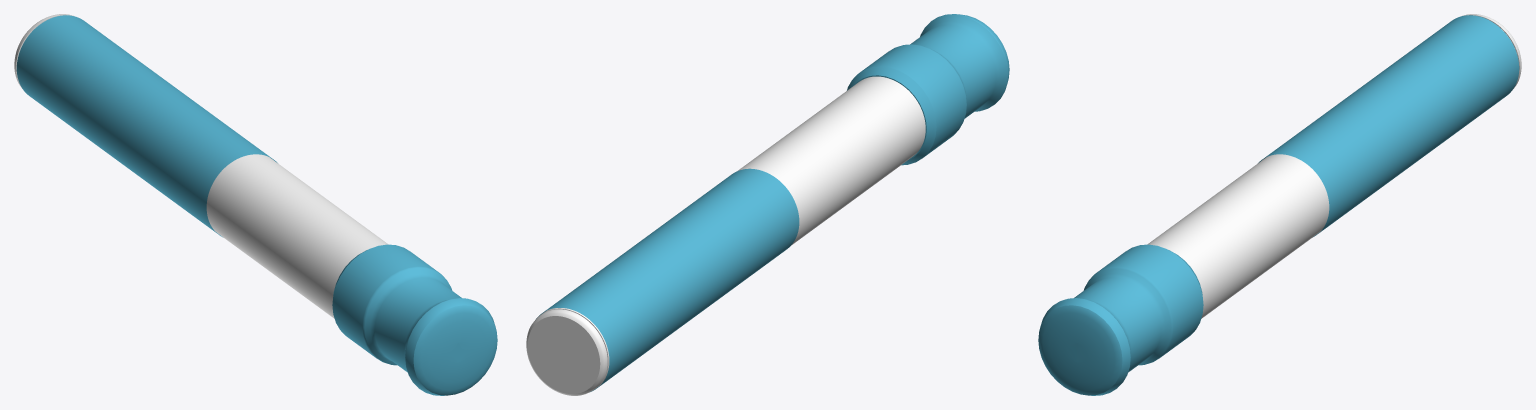
The model's file is cap2.glb.
The picture shows the model from 3 angles, left to right: view 1: azimuth 30°, elevation 25°; view 2: azimuth 150°, elevation 25°; view 3: azimuth 330°, elevation 25°; orthographic projection.
Visible parts, largest first — view 1: Label, Body; view 2: Label, Body; view 3: Label, Body.
Boxes of the visible parts, bbox=[...] form: Label: bbox=[16, 15, 497, 395]; Body: bbox=[14, 14, 388, 318]; Label: bbox=[536, 14, 1009, 391]; Body: bbox=[526, 76, 925, 395]; Label: bbox=[1038, 15, 1519, 395]; Body: bbox=[1147, 14, 1521, 318].
Size of the model in its own units: 2.72 by 2.72 by 20.81.
Materials: 2 (1 with a texture image).
